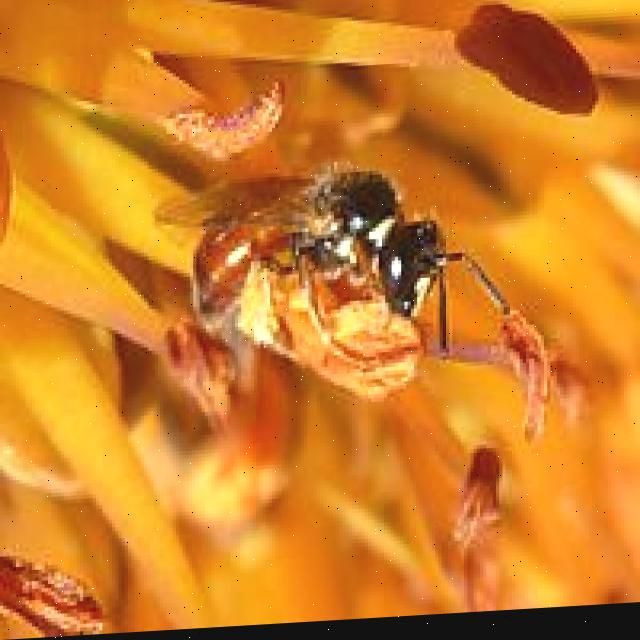Allodapula: (150, 127, 534, 401)
